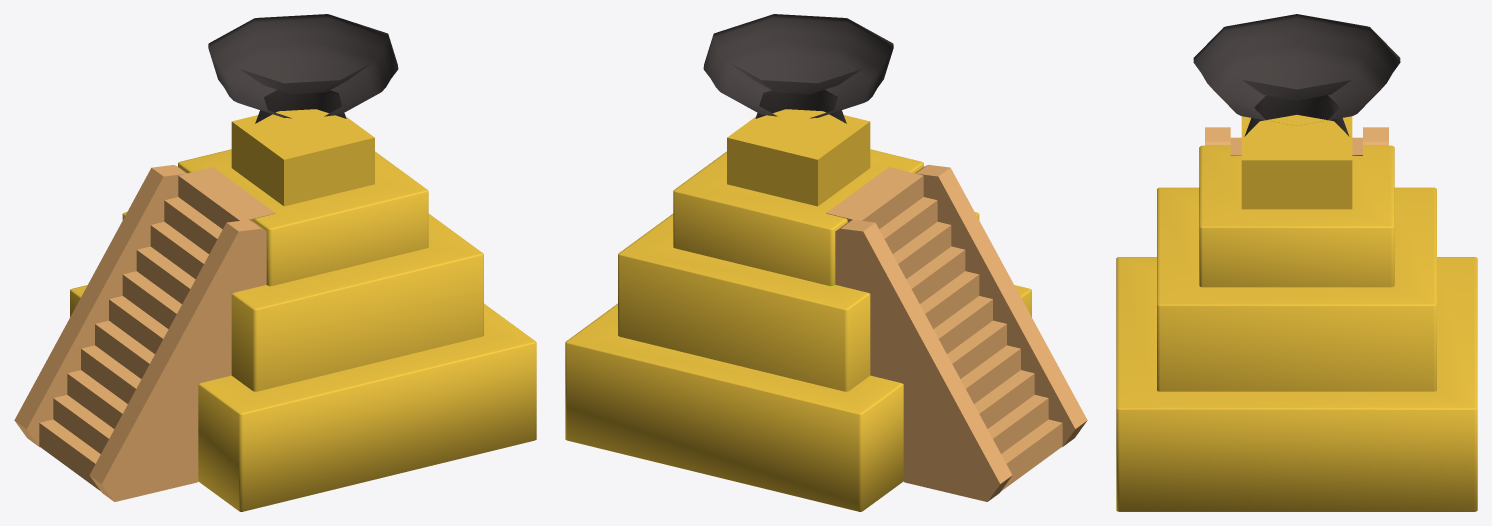
The model's file is temple2.fbx.
3 views of the same model, side by side, from view 1: azimuth 30°, elevation 25°; view 2: azimuth 150°, elevation 25°; view 3: azimuth 270°, elevation 25° (orthographic). The views are drawn at different scales.
Visible parts, largest first — view 1: temple2; view 2: temple2; view 3: temple2.
Part boxes in pixels (bbox=[...]): temple2: bbox=[14, 14, 536, 511]; temple2: bbox=[565, 14, 1087, 511]; temple2: bbox=[1116, 14, 1477, 511].
Bounding box in the file's own units: 405 × 355 × 306.
